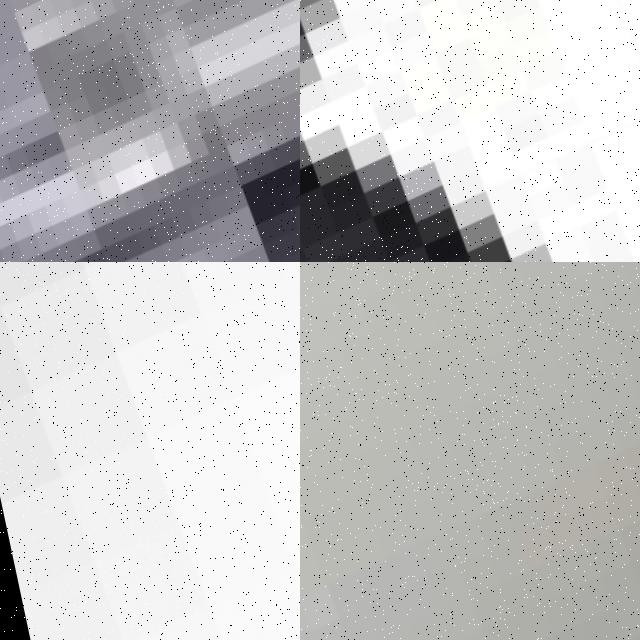0: (0, 0, 300, 262)
drone: (300, 262, 640, 640), (0, 262, 300, 640), (300, 0, 640, 262)
